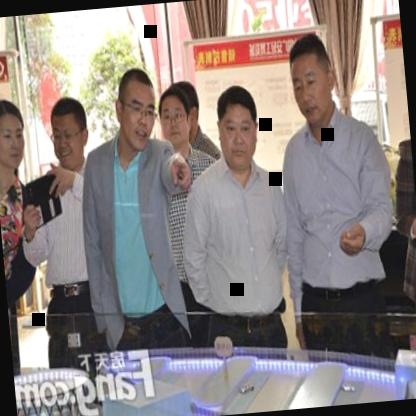head: (282, 23, 340, 128), (214, 81, 269, 176), (112, 63, 164, 151), (44, 90, 94, 172), (157, 79, 200, 151), (0, 94, 33, 174)
